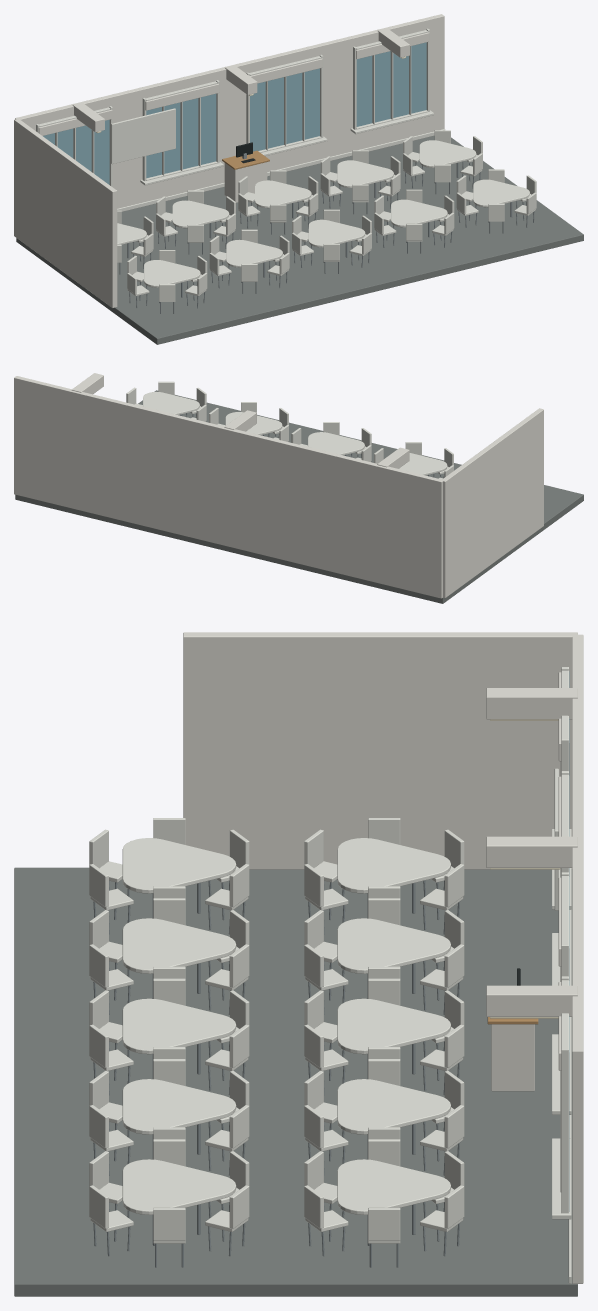
File: par-interior-39de2dc02e22.glb
3 renders of one model, top to bottom at view 1: azimuth 30°, elevation 25°; view 2: azimuth 150°, elevation 25°; view 3: azimuth 270°, elevation 25°, orthographic. The views are drawn at different scales.
Visible parts, largest first — view 1: PAR.001; view 2: PAR.001; view 3: PAR.001.
Part boxes in pixels (x1,y1,x2,y2): PAR.001: (14,14,583,344); PAR.001: (14,373,583,603); PAR.001: (14,632,583,1296).
Size of the model in its own units: 14.08 by 3.87 by 8.08.
